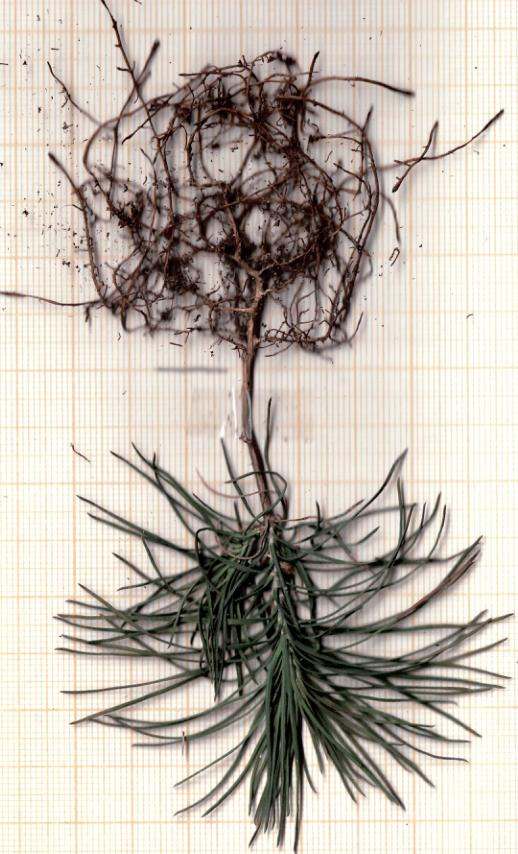flower: (50, 436, 516, 848)
root: (68, 54, 408, 361)
stem: (223, 357, 291, 513)
